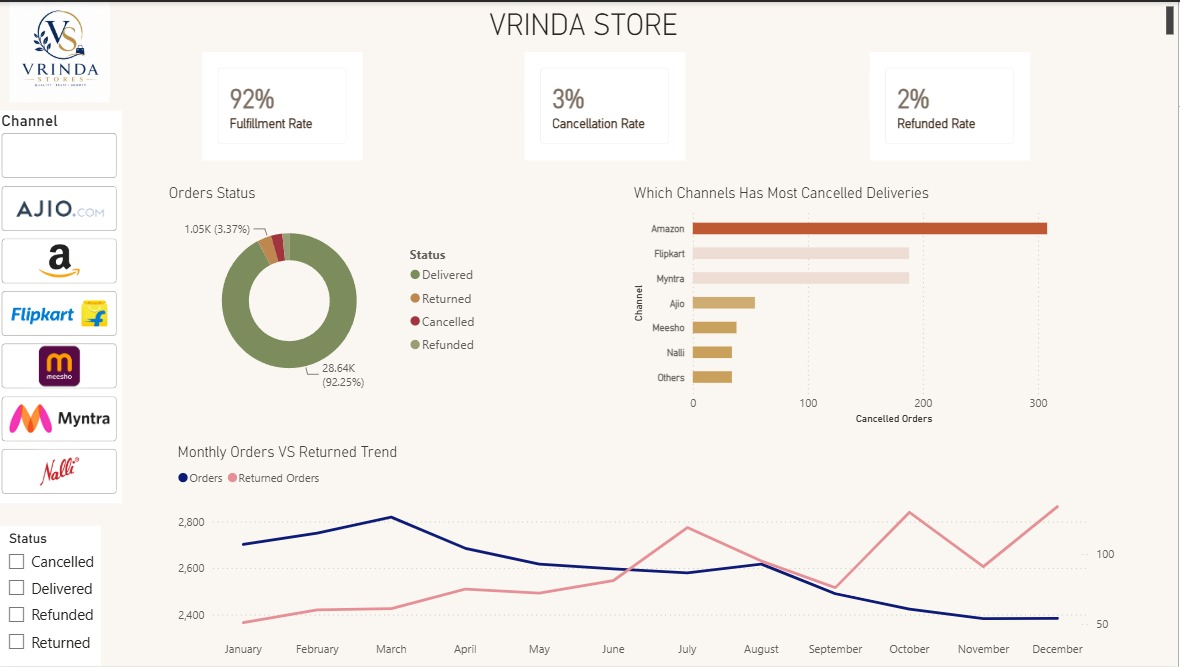

Layout of this report page (visuals, bound fields, positions):
{"tool":"powerbi","page":{"name":"Order & Fulfillment","canvas":[1280,720],"ordinal":1},"visuals":[{"type":"textbox","box":[0,0,1280.3,50.8],"z":0},{"type":"image","box":[0,0,135.8,108.4],"z":1000},{"type":"advancedSlicerVisual","fields":{"Values":["Sheet1.Channel"]},"box":[0,117.9,135.5,425.4],"z":2000},{"type":"slicer","fields":{"Values":["Vrinda Store.Status"]},"box":[0,567.7,112.4,151.7],"z":3000},{"type":"donutChart","title":"Orders Status","fields":{"Category":["Vrinda Store.Status"],"Y":["CountNonNull(Vrinda Store.Order ID)"]},"box":[181.5,196.4,350.9,235.7],"z":4000},{"type":"barChart","title":"Which Channels Has Most Cancelled Deliveries","fields":{"Category":["Vrinda Store.Channel"],"Y":["Sheet1.Cancelled Orders"]},"box":[685.5,196.4,520.2,266.9],"z":5000},{"type":"cardVisual","fields":{"Data":["Vrinda Store.Fulfillment Rate"]},"box":[222.2,54.2,174.8,117.9],"z":6000},{"type":"cardVisual","fields":{"Data":["Vrinda Store.Cancellation Rate"]},"box":[571.7,54.2,174.8,117.9],"z":7000},{"type":"cardVisual","fields":{"Data":["Vrinda Store.Refunded Rate"]},"box":[945.6,54.2,174.8,117.9],"z":8000},{"type":"lineChart","title":"Monthly Orders VS Returned Trend","fields":{"Y":["CountNonNull(Vrinda Store.Order ID)"],"Category":["Vrinda Store.Month"],"Y2":["Vrinda Store.Returned Orders"]},"box":[191,476.9,1025.6,242.5],"z":9000}]}

Visuals, with their boxes in screenshot pixels (x1, y1, x2, y2), scaled from the page's 1280x720 canvas onto the 1180x667 screenshot:
textbox: BBox(0, 0, 1179, 47)
image: BBox(0, 0, 125, 100)
advancedSlicerVisual - Sheet1.Channel: BBox(0, 109, 125, 503)
slicer - Vrinda Store.Status: BBox(0, 526, 104, 666)
"Orders Status" donutChart: BBox(167, 182, 491, 400)
"Which Channels Has Most Cancelled Deliveries" barChart: BBox(632, 182, 1112, 429)
cardVisual - Vrinda Store.Fulfillment Rate: BBox(205, 50, 366, 159)
cardVisual - Vrinda Store.Cancellation Rate: BBox(527, 50, 688, 159)
cardVisual - Vrinda Store.Refunded Rate: BBox(872, 50, 1033, 159)
"Monthly Orders VS Returned Trend" lineChart: BBox(176, 442, 1122, 666)
